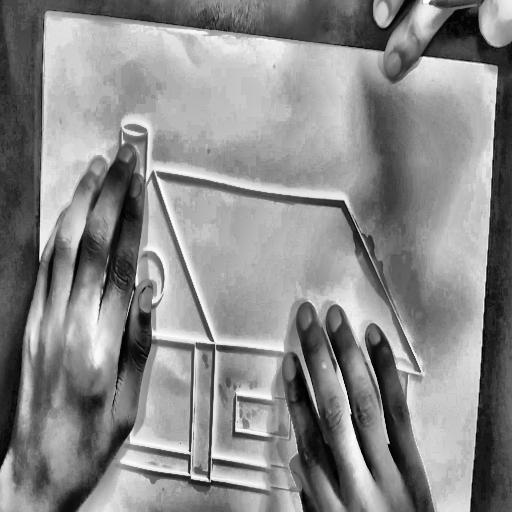house: (47, 112, 463, 512)
top_left: (43, 7, 50, 18)
top_right: (495, 63, 501, 72)
